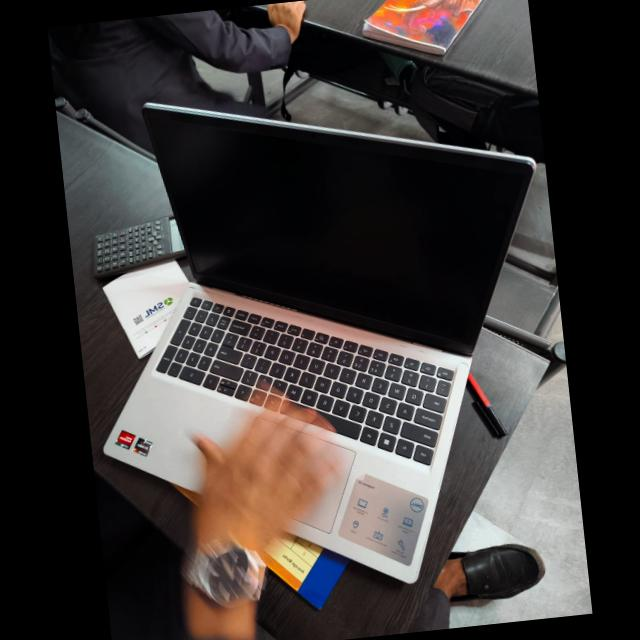laptop: (61, 108, 578, 615)
